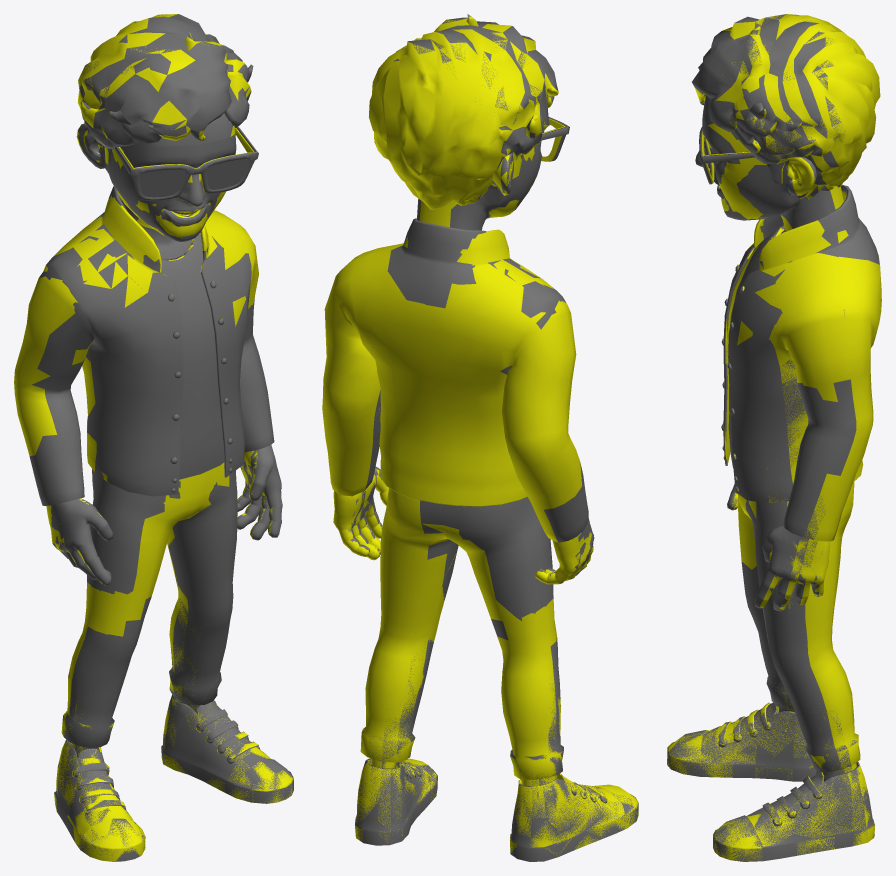
The model's file is v8.Male_LOD_A_Pose_9.gltf.
3 views of the same model, side by side, from view 1: azimuth 30°, elevation 25°; view 2: azimuth 150°, elevation 25°; view 3: azimuth 270°, elevation 25° (orthographic). The views are drawn at different scales.
Parts seen in each view (by area): view 1: Jacket_01_Geo1.004, Trouser_01_Geo1.001, Jacket_01_Geo2, Hair_01_Geo1.001, Basebody_Geo1.001, Jacket_01_Geo1.003, TShirt_01_Geo1.001, Trouser_01_Geo2, L_Shoe_01_Geo1.002, Hair_01_Geo2, R_Shoe_01_Geo2, R_Shoe_01_Geo1.002 (+5 smaller); view 2: Jacket_01_Geo2, Trouser_01_Geo2, Hair_01_Geo2, Trouser_01_Geo1.001, Jacket_01_Geo1.004, R_Shoe_01_Geo1.002, Basebody_Geo2, R_Shoe_01_Geo2, L_Shoe_01_Geo1.002, Hair_01_Geo1.001, Basebody_Geo1.001, L_Shoe_01_Geo2 (+1 smaller); view 3: Jacket_01_Geo2, Jacket_01_Geo1.004, Hair_01_Geo2, Hair_01_Geo1.001, Trouser_01_Geo1.001, L_Shoe_01_Geo1.002, Basebody_Geo1.001, R_Shoe_01_Geo1.002, Trouser_01_Geo2, Jacket_01_Geo1.003, L_Shoe_01_Geo2, Basebody_Geo2 (+4 smaller).
Part boxes in pixels (box(x1,y1,x2,y2)): Jacket_01_Geo1.004: box(46, 186, 251, 496); Trouser_01_Geo1.001: box(62, 469, 237, 747); Jacket_01_Geo2: box(14, 195, 258, 481); Hair_01_Geo1.001: box(79, 14, 253, 165); Basebody_Geo1.001: box(51, 113, 282, 756); Jacket_01_Geo1.003: box(29, 265, 274, 505); TShirt_01_Geo1.001: box(161, 233, 224, 479); Trouser_01_Geo2: box(61, 462, 229, 735); L_Shoe_01_Geo1.002: box(161, 695, 293, 803); Hair_01_Geo2: box(77, 14, 251, 164); R_Shoe_01_Geo2: box(54, 739, 145, 861); R_Shoe_01_Geo1.002: box(54, 739, 145, 861); Jacket_01_Geo2: box(322, 229, 582, 542); Trouser_01_Geo2: box(360, 488, 562, 779); Hair_01_Geo2: box(369, 14, 558, 209); Trouser_01_Geo1.001: box(364, 497, 563, 779); Jacket_01_Geo1.004: box(387, 218, 565, 374); R_Shoe_01_Geo1.002: box(510, 774, 638, 861); Basebody_Geo2: box(333, 141, 593, 786); R_Shoe_01_Geo2: box(510, 773, 638, 856); L_Shoe_01_Geo1.002: box(355, 758, 437, 845); Hair_01_Geo1.001: box(393, 14, 558, 200); Basebody_Geo1.001: box(348, 145, 594, 786); L_Shoe_01_Geo2: box(355, 758, 437, 842); Jacket_01_Geo2: box(724, 191, 881, 541); Jacket_01_Geo1.004: box(723, 184, 879, 502); Hair_01_Geo2: box(695, 14, 880, 199); Hair_01_Geo1.001: box(692, 14, 845, 199); Trouser_01_Geo1.001: box(741, 500, 857, 772); L_Shoe_01_Geo1.002: box(713, 761, 874, 861); Basebody_Geo1.001: box(695, 95, 852, 781); R_Shoe_01_Geo1.002: box(667, 703, 816, 781); Trouser_01_Geo2: box(737, 482, 860, 770); Jacket_01_Geo1.003: box(732, 309, 856, 539); L_Shoe_01_Geo2: box(713, 763, 875, 861); Basebody_Geo2: box(704, 123, 856, 778).
Bounding box in the file's own units: 0.5763 × 1.78 × 0.4378.
11 materials, 10 textured.
